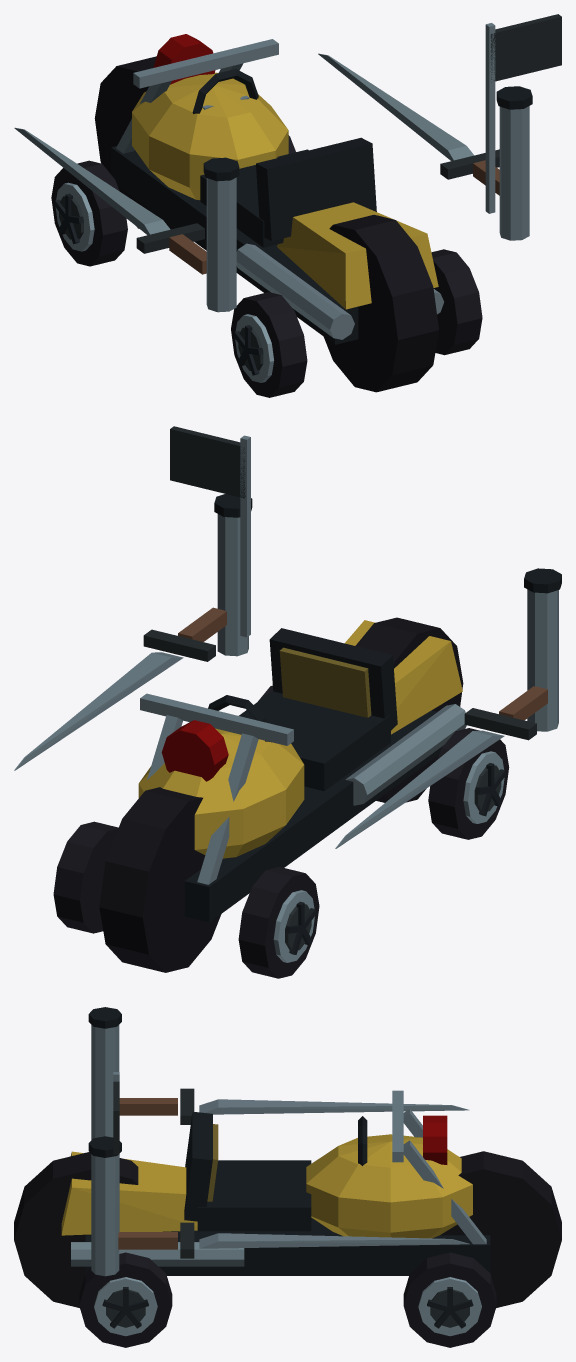
File: kart.glb
The picture shows the model from 3 angles, top to bottom: view 1: azimuth 30°, elevation 25°; view 2: azimuth 150°, elevation 25°; view 3: azimuth 270°, elevation 25°; orthographic projection. The views are drawn at different scales.
Visible parts, largest first — view 1: identity-motorbike-motorbike-tank-and-fork, identity-motorbike-driver-cockpit, identity-motorbike-motif-exhaust, identity-motorbike-motif-swords, wheel-rear-left, identity-motorbike-motif-flag, wheel-front-left, wheel-rear-right; view 2: identity-motorbike-motorbike-tank-and-fork, identity-motorbike-driver-cockpit, identity-motorbike-motif-swords, identity-motorbike-motif-exhaust, wheel-front-left, identity-motorbike-motif-flag, wheel-rear-left, wheel-front-right; view 3: identity-motorbike-motorbike-tank-and-fork, identity-motorbike-driver-cockpit, identity-motorbike-motif-swords, identity-motorbike-motif-exhaust, wheel-front-right, wheel-rear-right, identity-motorbike-motif-flag.
Part boxes in pixels (x1,y1,x2,y2): identity-motorbike-motorbike-tank-and-fork: (94, 34, 443, 392); identity-motorbike-driver-cockpit: (192, 69, 376, 247); identity-motorbike-motif-exhaust: (203, 86, 532, 312); identity-motorbike-motif-swords: (14, 53, 499, 274); wheel-rear-left: (231, 292, 307, 397); identity-motorbike-motif-flag: (485, 14, 561, 213); wheel-front-left: (51, 160, 127, 266); wheel-rear-right: (431, 249, 482, 355); identity-motorbike-motorbike-tank-and-fork: (99, 617, 466, 972); identity-motorbike-driver-cockpit: (208, 628, 397, 791); identity-motorbike-motif-swords: (14, 607, 547, 848); identity-motorbike-motif-exhaust: (214, 494, 561, 731); wheel-front-left: (238, 867, 319, 978); identity-motorbike-motif-flag: (170, 426, 250, 637); wheel-rear-left: (428, 728, 509, 839); wheel-front-right: (53, 821, 118, 933); identity-motorbike-motorbike-tank-and-fork: (14, 1090, 561, 1307); identity-motorbike-driver-cockpit: (184, 1111, 367, 1231); identity-motorbike-motif-swords: (118, 1088, 469, 1258); identity-motorbike-motif-exhaust: (88, 1007, 121, 1276); wheel-front-right: (403, 1252, 496, 1347); wheel-rear-right: (79, 1252, 172, 1347); identity-motorbike-motif-flag: (113, 1072, 119, 1231).
Size of the model in its own units: 2.13 by 1.7 by 2.94.
